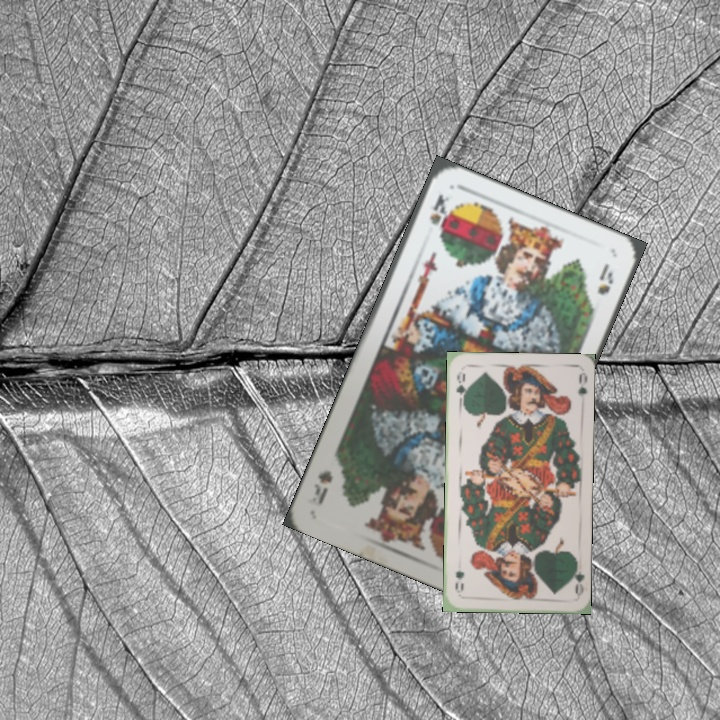GO: (567, 557, 587, 598), (452, 367, 469, 407)
SK: (425, 190, 452, 233)
